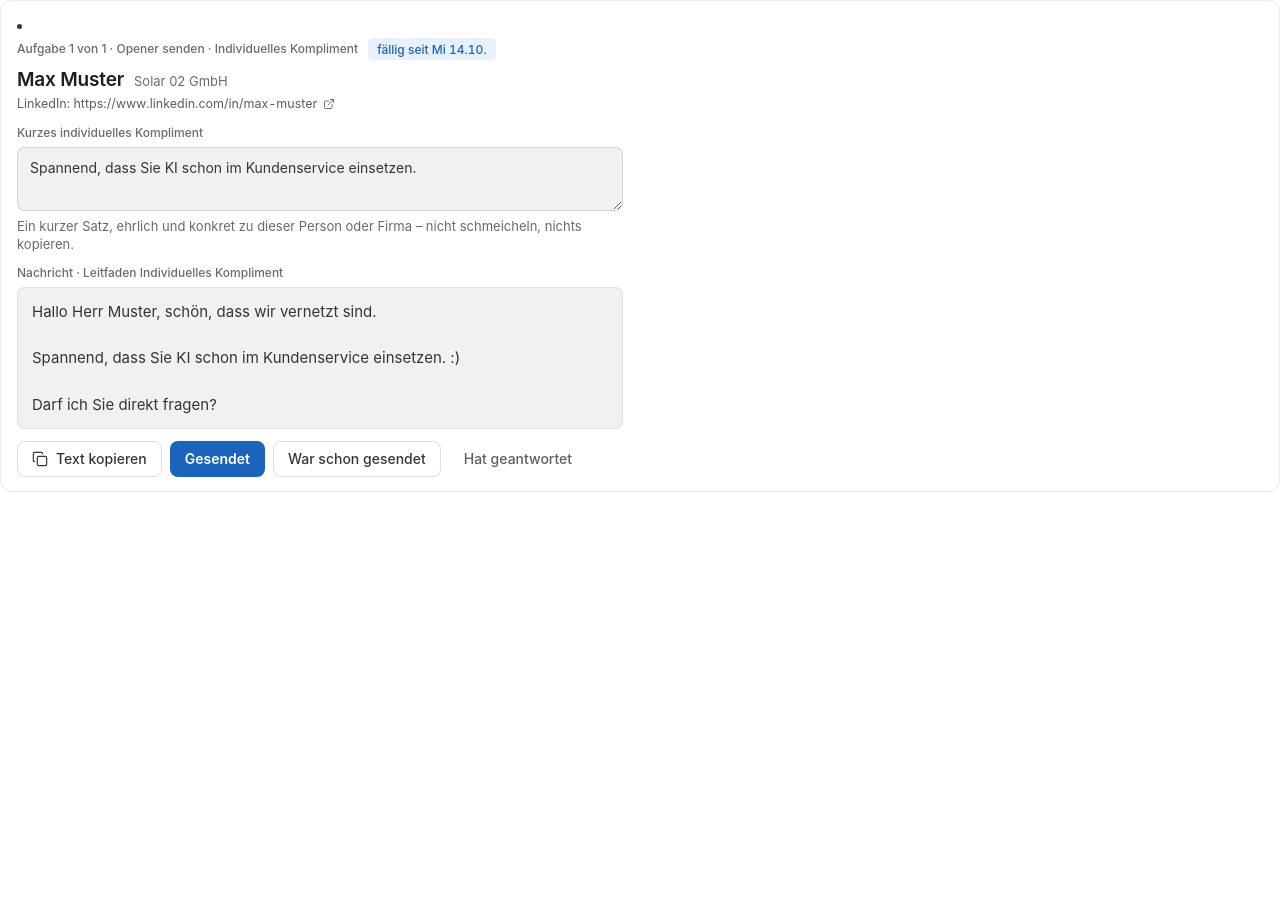
Scenario: NachrichtZeile – Individuelles Kompliment › „Hat geantwortet“ erinnert daran, den Chat als ungelesen zu markieren
Click the button "Hat geantwortet".
click(518, 459)  # box [449, 441, 587, 477]
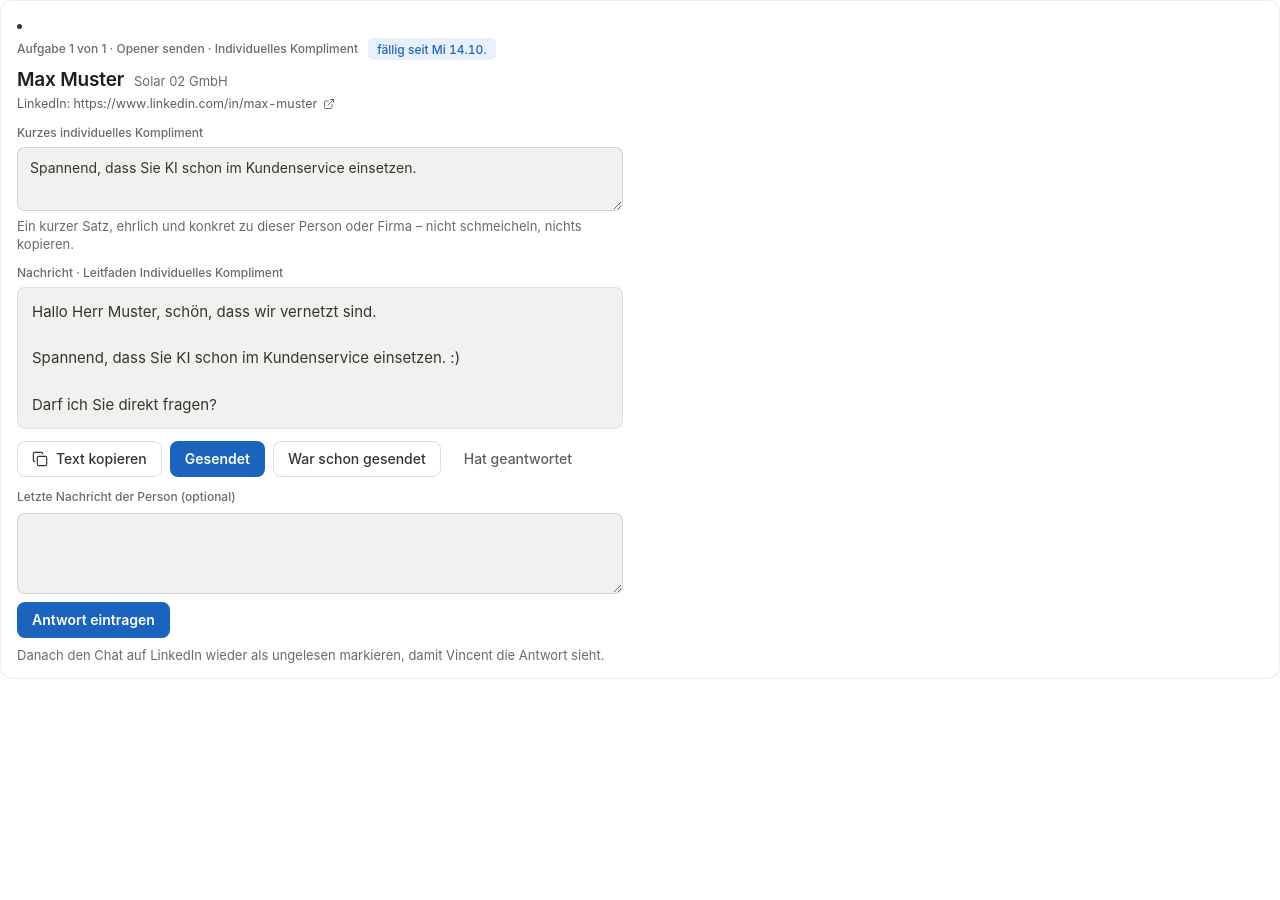
Check: the text "als ungelesen markieren" is shown, box [17, 647, 604, 663]
